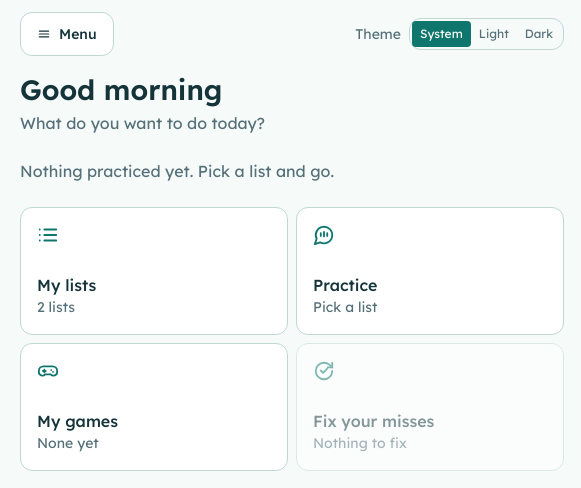
Test case: renaming a list › offers the name it has now, and renames it in place
Click the button "Menu" at (67, 34), box [20,12,114,56]
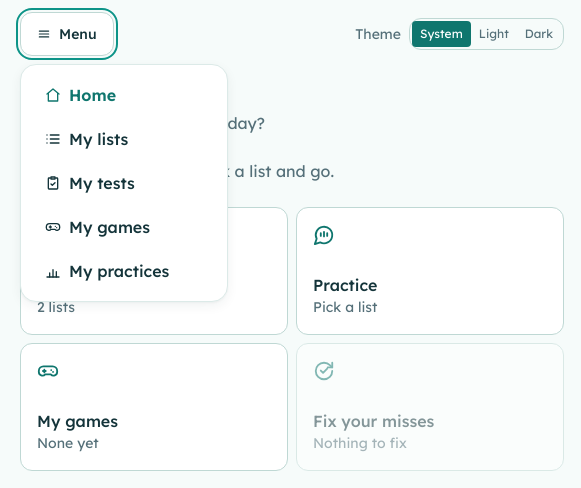
Click the menu item "My lists" at (124, 139), box [29,117,219,161]
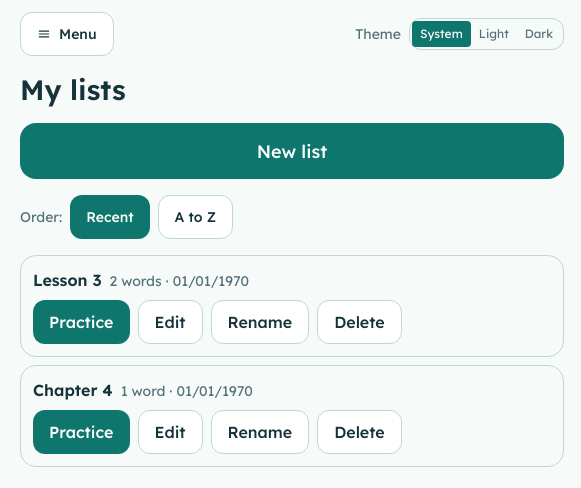
Click the button "Rename" below "Lesson 3" at (260, 322), box [211,300,309,344]
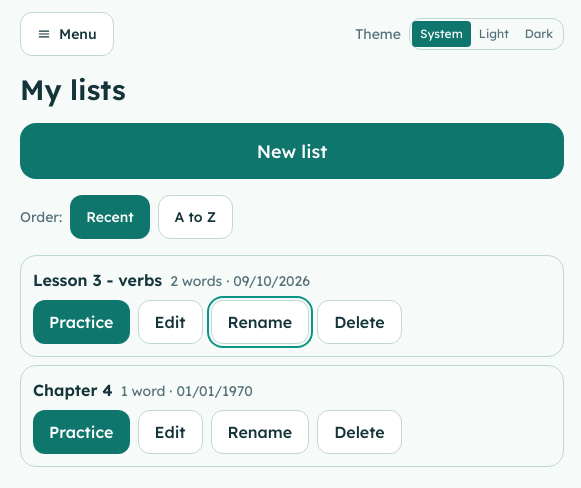
Now the text "Chapter 4" is shown, box [33,378,113,402]
Now the text "Lesson 3 - verbs" is shown, box [33,268,162,292]
